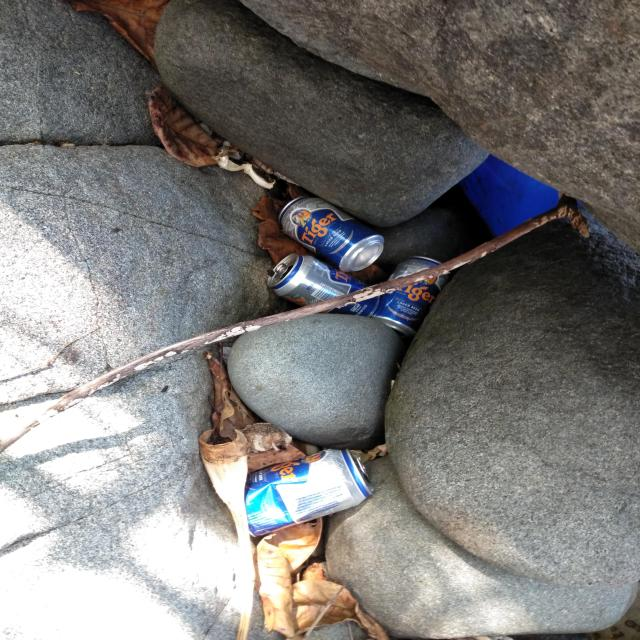litter: (242, 447, 373, 538), (278, 195, 383, 272), (266, 253, 381, 318), (373, 256, 450, 337)
